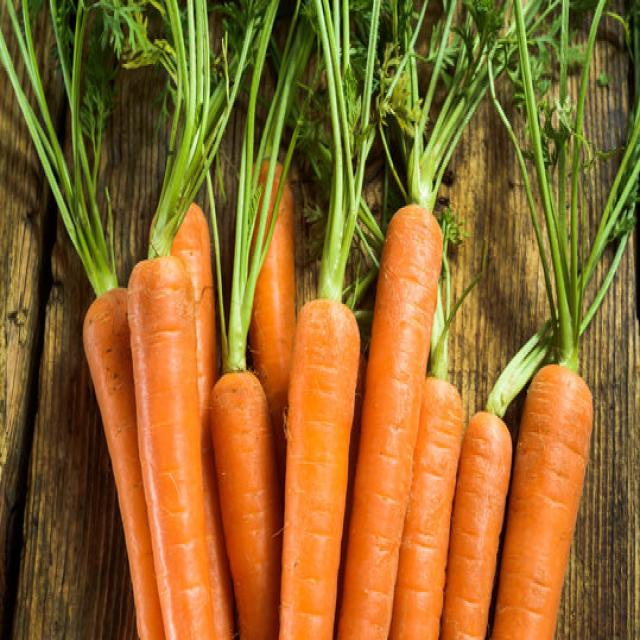Carrot: (335, 201, 443, 638), (126, 254, 217, 638), (82, 286, 166, 638), (489, 361, 594, 638), (276, 297, 360, 638), (169, 201, 234, 638), (388, 375, 463, 638), (209, 368, 281, 638), (440, 409, 513, 638), (246, 156, 296, 422), (170, 201, 217, 439)
